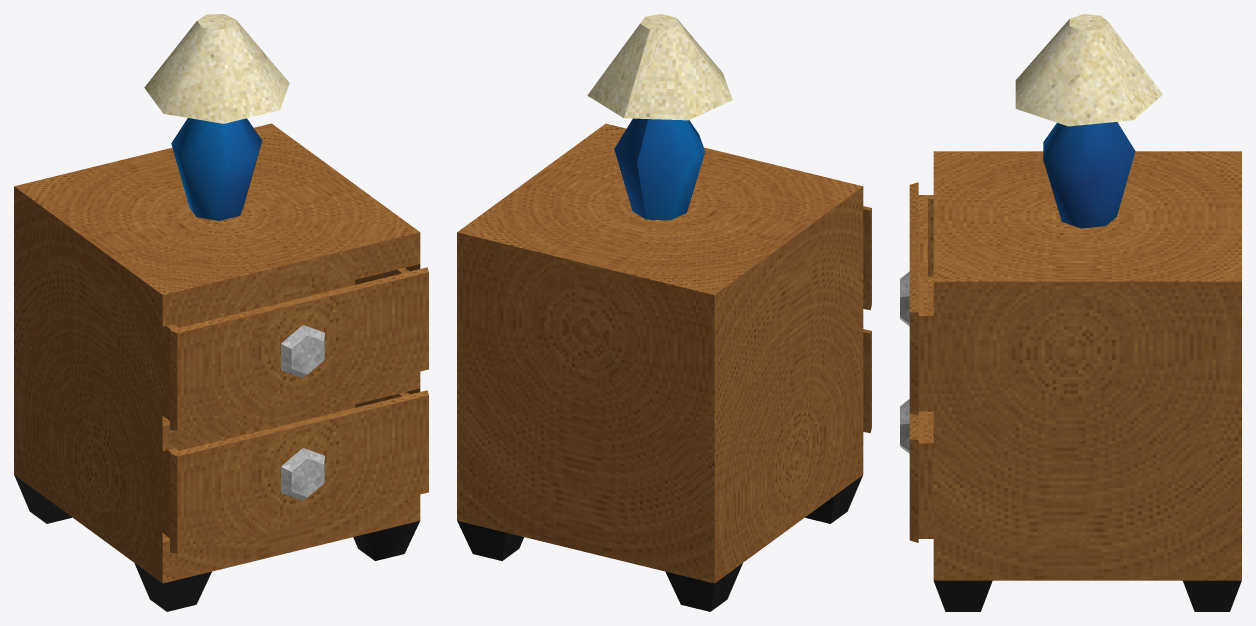
File: BedsideTable.fbx
3 renders of one model, left to right at view 1: azimuth 30°, elevation 25°; view 2: azimuth 150°, elevation 25°; view 3: azimuth 270°, elevation 25°, orthographic. The views are drawn at different scales.
Visible parts, largest first — view 1: BedsideTable, BedsideTable1, BedsideTable2, Lamp; view 2: BedsideTable, Lamp, BedsideTable1, BedsideTable2; view 3: BedsideTable, Lamp, BedsideTable1, BedsideTable2.
Boxes of the visible parts, <box> form: BedsideTable: <box>14,123,420,611</box>; BedsideTable1: <box>162,267,428,430</box>; BedsideTable2: <box>162,390,428,553</box>; Lamp: <box>144,14,289,220</box>; BedsideTable: <box>457,123,863,611</box>; Lamp: <box>587,14,732,220</box>; BedsideTable1: <box>863,206,871,310</box>; BedsideTable2: <box>863,329,871,432</box>; BedsideTable: <box>933,151,1241,611</box>; Lamp: <box>1015,14,1162,228</box>; BedsideTable1: <box>900,182,933,415</box>; BedsideTable2: <box>900,399,933,542</box>.
Bounding box in the file's own units: 50 × 94.72 × 55.43.
1 material, 1 textured.
